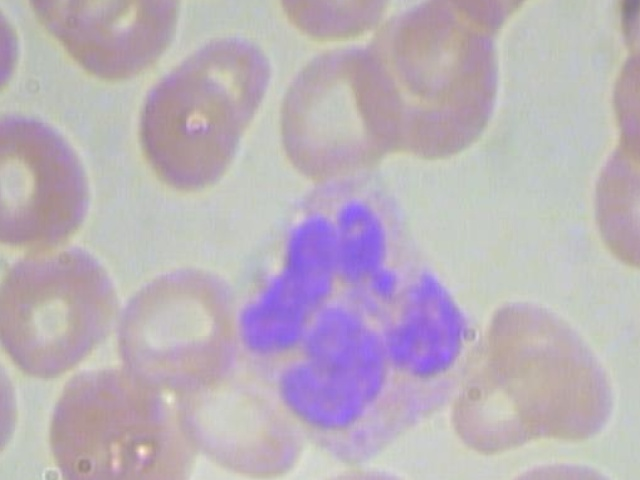RBC: (486, 292, 627, 450), (271, 38, 412, 196), (120, 65, 258, 207), (0, 235, 126, 377), (117, 254, 238, 393), (584, 129, 640, 277), (271, 0, 408, 45), (600, 42, 640, 167), (601, 0, 640, 75)
WBC: (220, 170, 495, 475)
